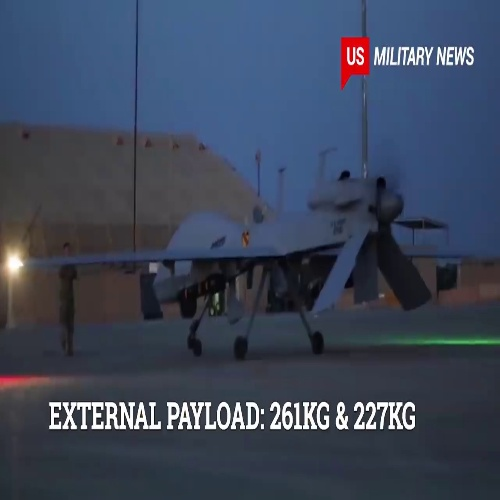uav: (17, 158, 435, 356)
